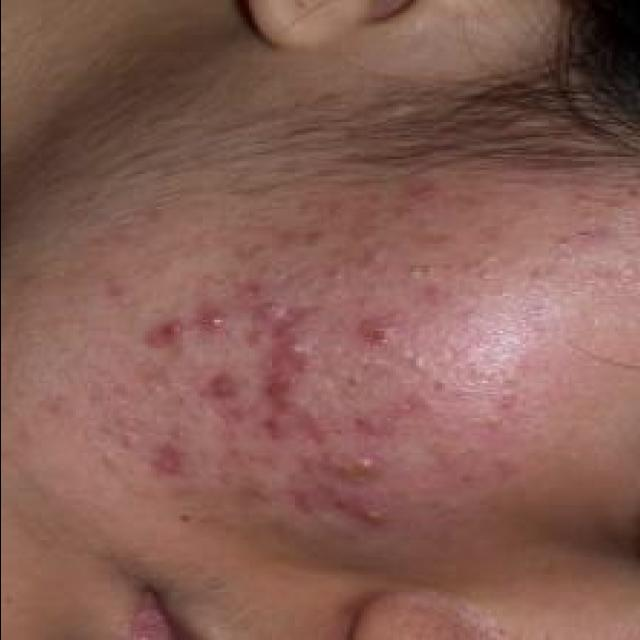Acne: (256, 338, 322, 398), (260, 401, 334, 448), (324, 493, 397, 531), (254, 298, 324, 336), (145, 444, 195, 480), (354, 314, 408, 346), (334, 455, 386, 487), (142, 317, 188, 352), (352, 412, 399, 444), (198, 372, 246, 402), (193, 304, 237, 336)
